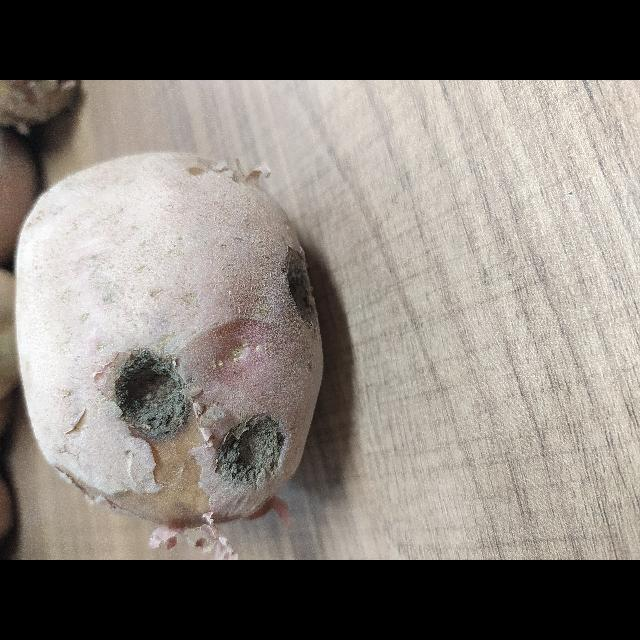Damaged potato: (16, 90, 418, 420)
